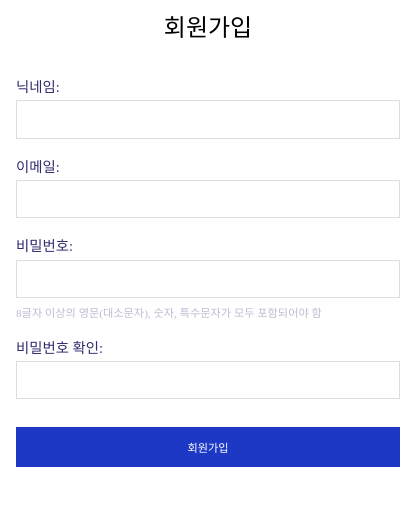
Test: RegisterForm › 닉네임을 입력하지 않고 회원가입 버튼을 클릭했을 경우 › 닉네임을 입력해주세요 에러메시지를 볼 수 있다
This screenshot has width=417, height=505.
Type "tjrxo1234@gmail.com" into the field labelled "이메일:".
click(208, 199); type("tjrxo1234@gmail.com")  # box [16,180,400,218]
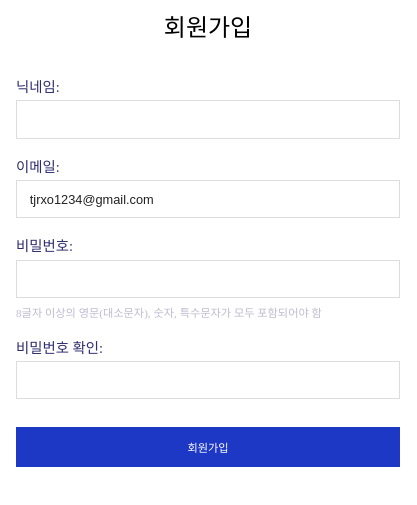
Type "Password1234!" into the password field labelled "비밀번호:".
click(208, 279); type("Password1234!")  # box [16,260,400,298]
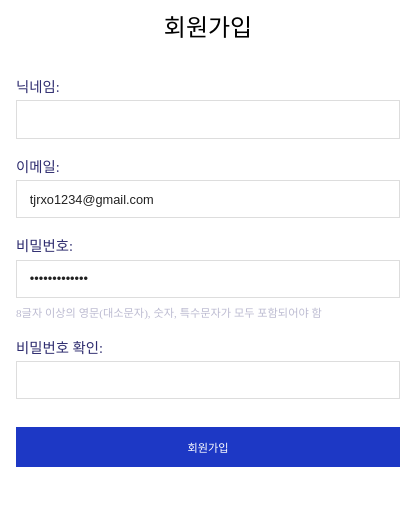
Type "Password1234!" into the password field labelled "비밀번호 확인:".
click(208, 380); type("Password1234!")  # box [16,361,400,399]
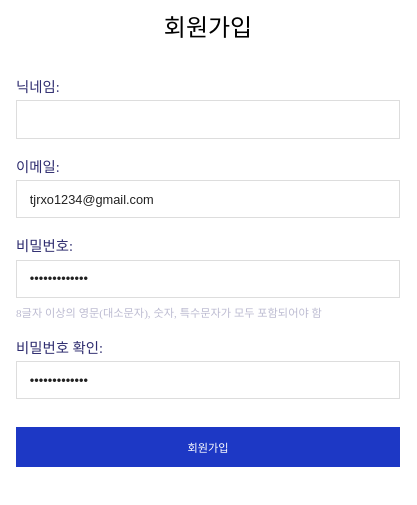
Click the button "회원가입".
click(208, 447)  # box [16,427,400,466]
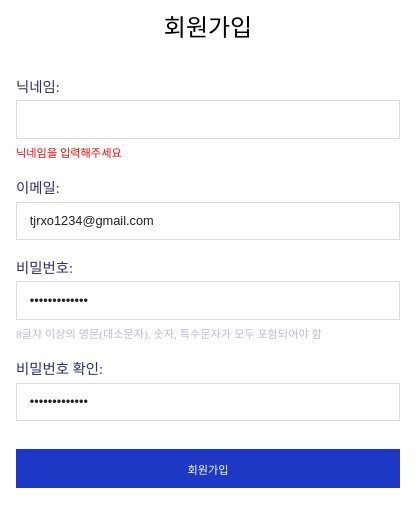
Result: the text "닉네임을 입력해주세요" is shown at [16,147,122,159]
